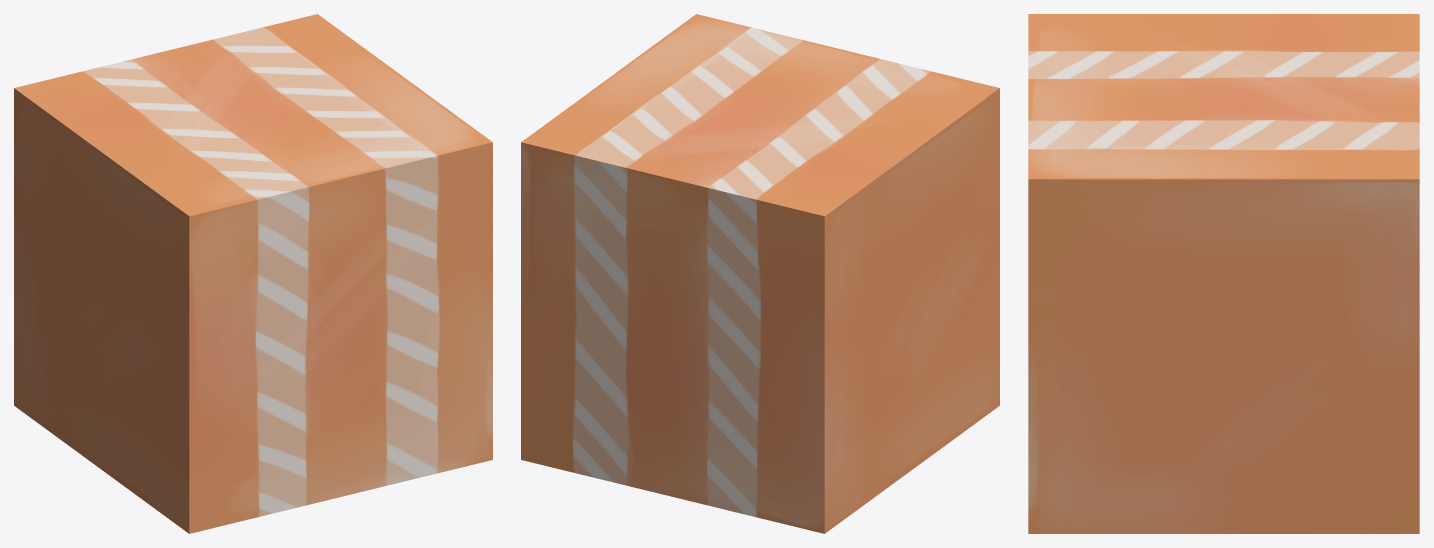
The model's file is candy1.fbx.
3 views of the same model, side by side, from view 1: azimuth 30°, elevation 25°; view 2: azimuth 150°, elevation 25°; view 3: azimuth 270°, elevation 25° (orthographic). The views are drawn at different scales.
Parts seen in each view (by area): view 1: pCube1; view 2: pCube1; view 3: pCube1.
Part boxes in pixels (left/top/right/bottom): pCube1: left=14, top=14, right=492, bottom=533; pCube1: left=521, top=14, right=999, bottom=533; pCube1: left=1028, top=14, right=1419, bottom=533.
Size of the model in its own units: 1 by 1 by 1.
Materials: 1 (1 with a texture image).
